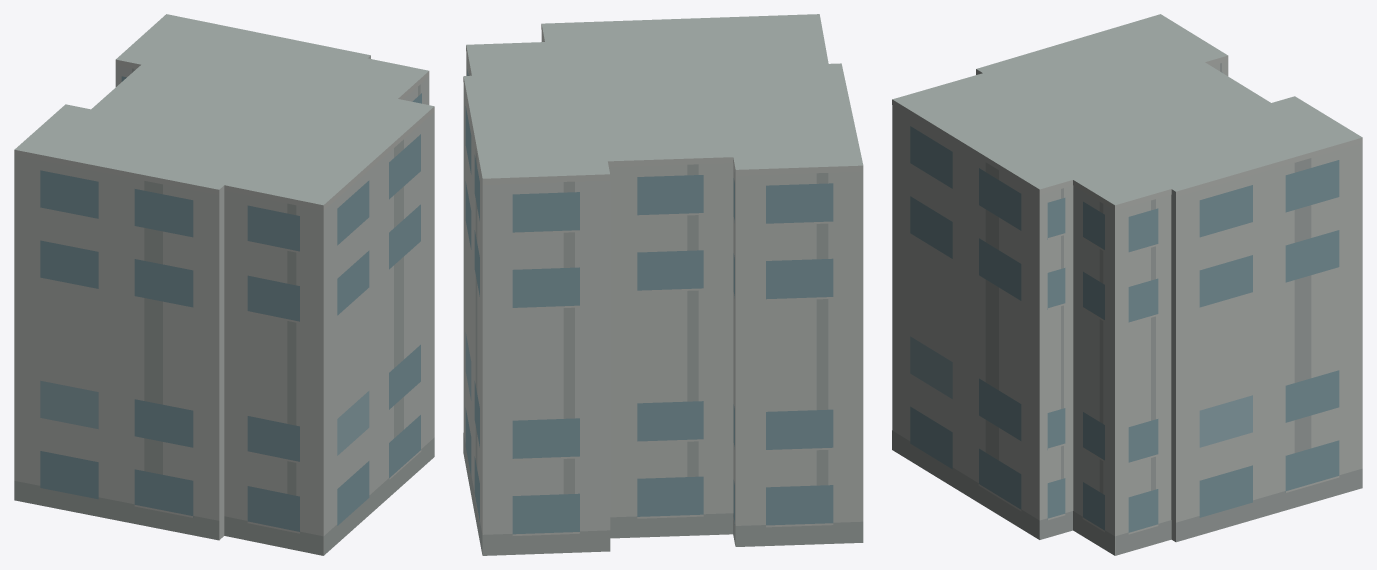
The model's file is survey-upis-32904583.glb.
3 renders of one model, left to right at view 1: azimuth 30°, elevation 25°; view 2: azimuth 150°, elevation 25°; view 3: azimuth 270°, elevation 25°, orthographic. The views are drawn at different scales.
Parts seen in each view (by area): view 1: survey-upis-32904583.tmp; view 2: survey-upis-32904583.tmp; view 3: survey-upis-32904583.tmp.
Part boxes in pixels (<box>): survey-upis-32904583.tmp: <box>14,14,434,555</box>; survey-upis-32904583.tmp: <box>463,14,863,555</box>; survey-upis-32904583.tmp: <box>892,14,1362,555</box>.
Size of the model in its own units: 17.86 by 15.25 by 18.56.
